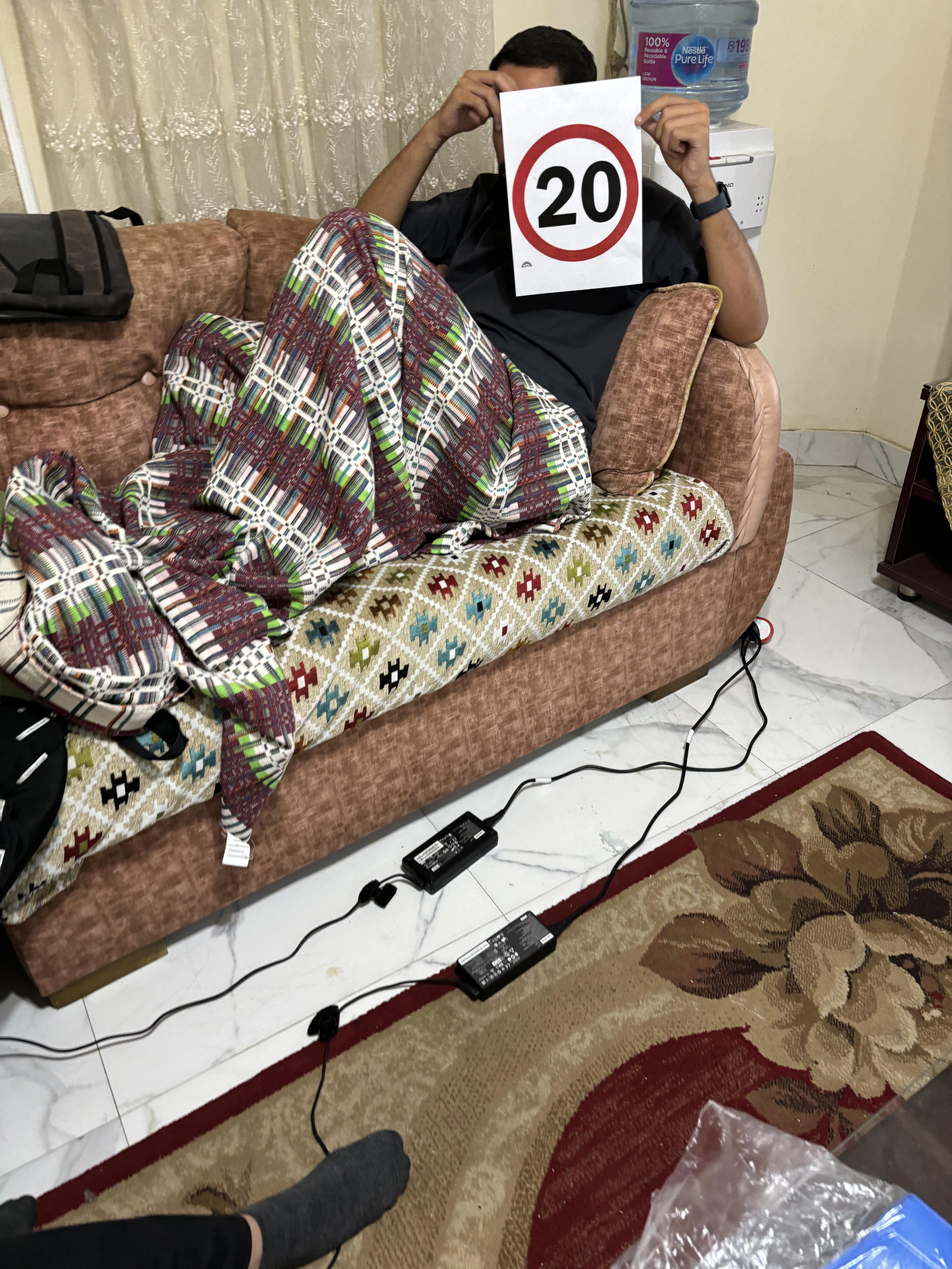20-Speed: (512, 120, 637, 259)
